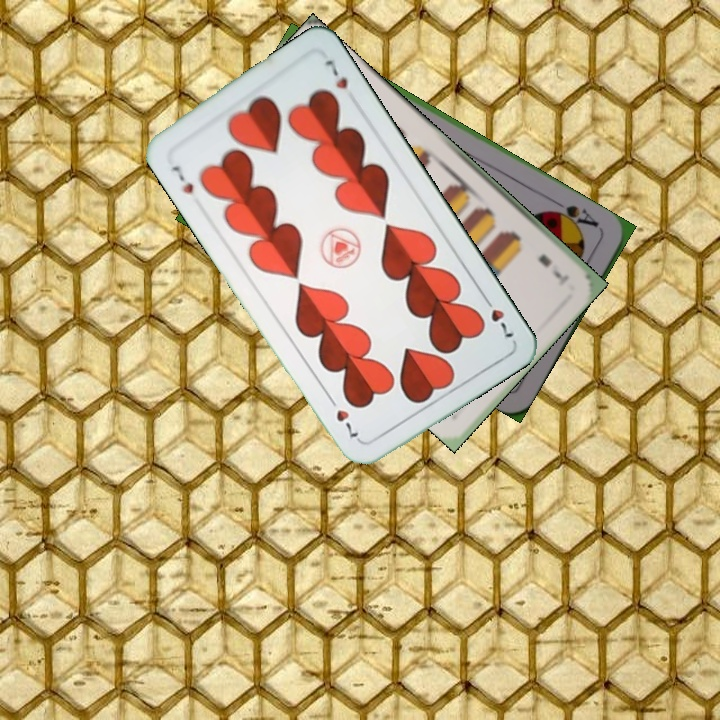E7: (534, 250, 572, 287)
H7: (478, 291, 517, 341), (168, 161, 197, 197)
SA: (546, 201, 603, 234)
